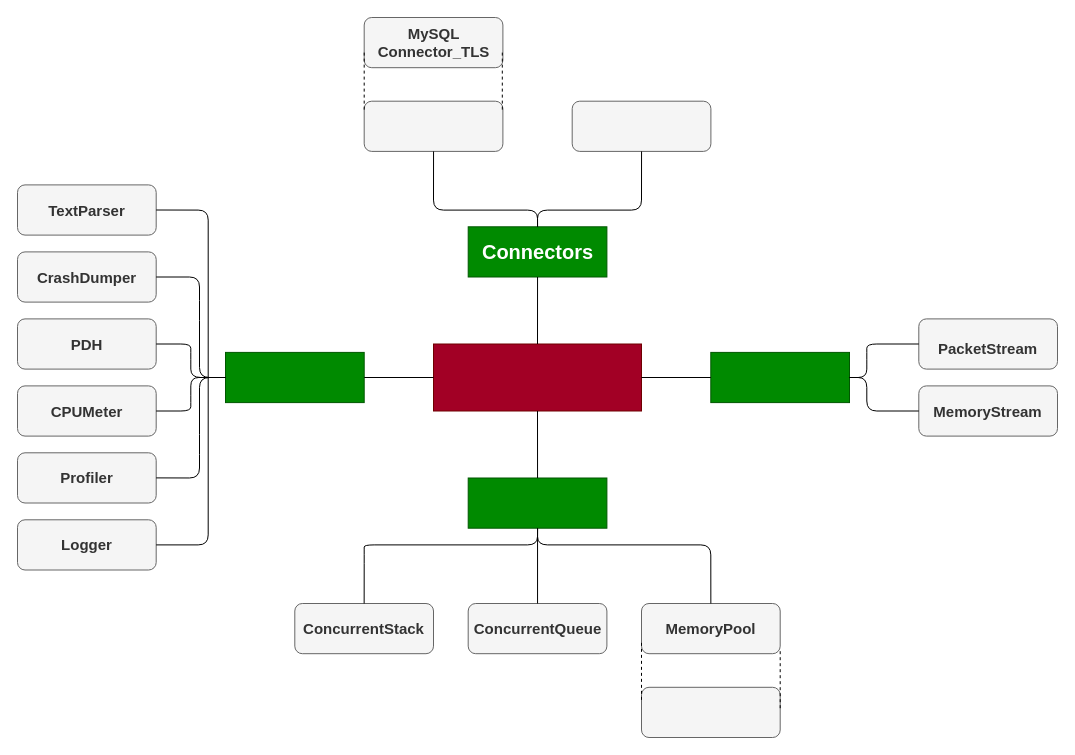
Some shapes in this 1075 by 755 pixel diagram are drawn without their labels. Here are the shapes that lost their labels. From the top down, the centre of each, then its label:
the point at 433,125: MySQL Connector
the point at 641,125: Redis Connector_TLS
the point at 294,377: Tools
the point at 537,377: Network Library
the point at 780,377: Buffers
the point at 537,502: Collections
the point at 710,712: MemoryPool_TLS
